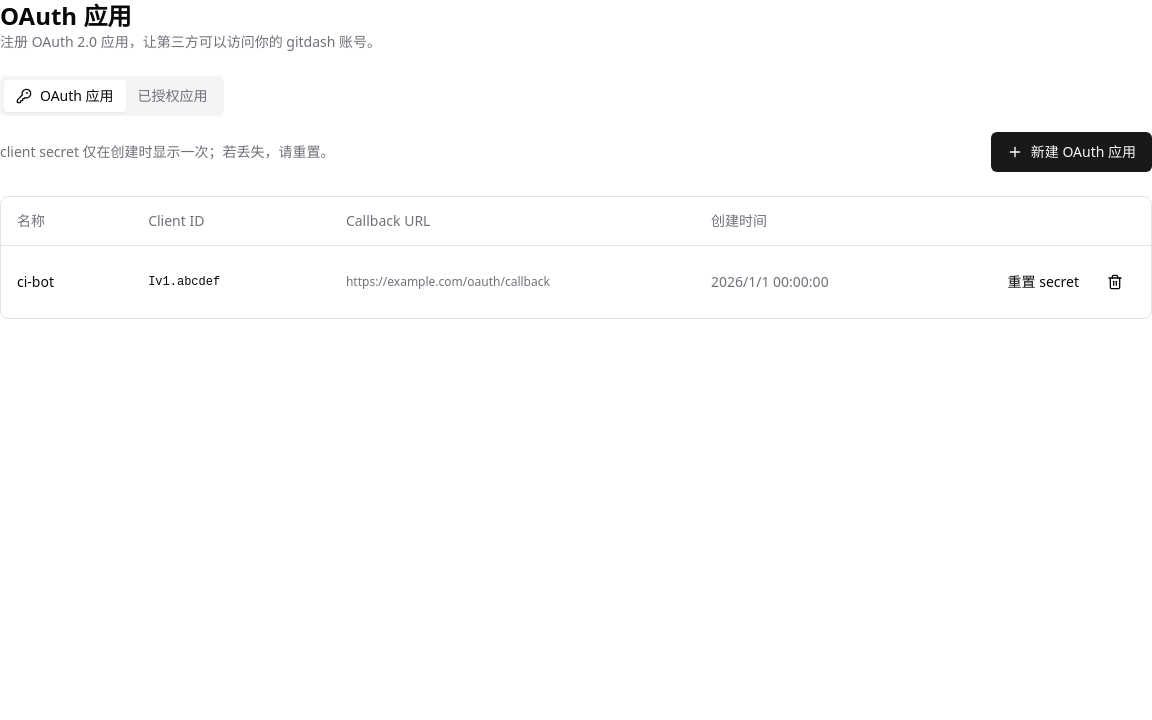
Test: OAuth applications page › renders in Chinese instead of falling back to hardcoded English
Expected: the heading "OAuth 应用" is shown, [0, 0, 131, 32]
Expected: the text "注册 OAuth 2.0 应用，让第三方可以访问你的 gitdash 账号。" is shown, [0, 32, 381, 51]
# 删除确认框里的应用名插值
Click the button named "删除" at [1115, 282], box [1095, 262, 1135, 302]
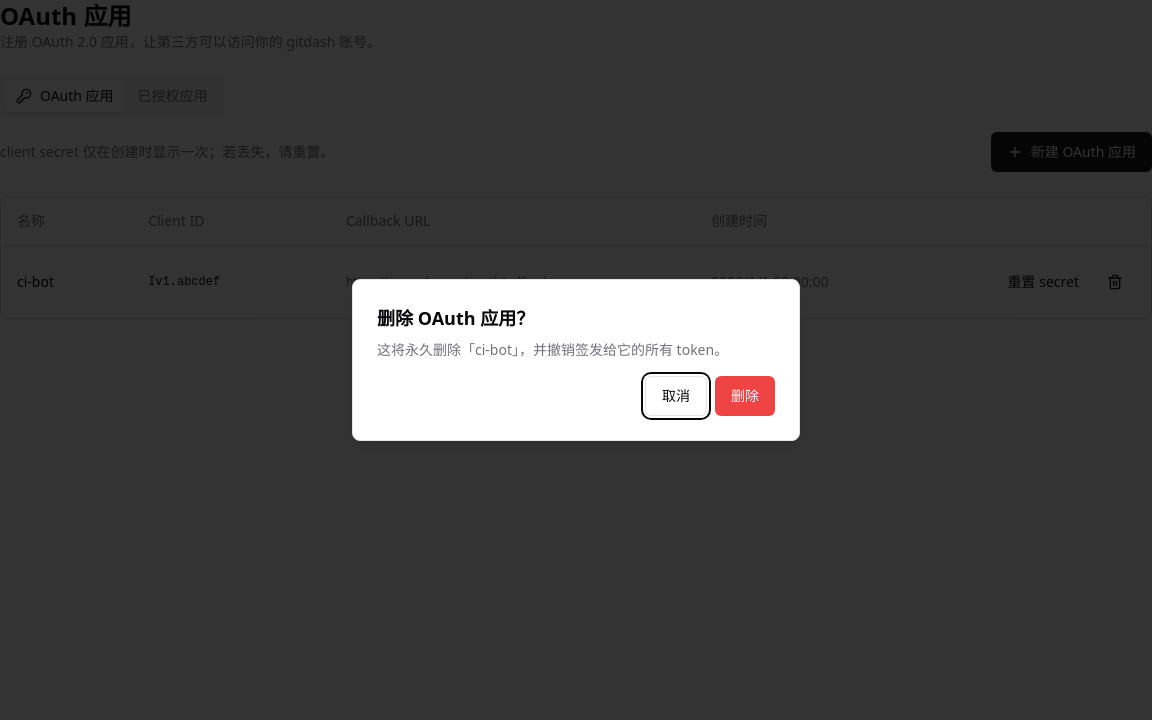
Expected: the dialog shows "删除 OAuth 应用？", [377, 306, 534, 330]
Expected: the dialog shows "ci-bot", [377, 340, 728, 359]
Click the button "取消" at [676, 396], box [645, 376, 707, 416]
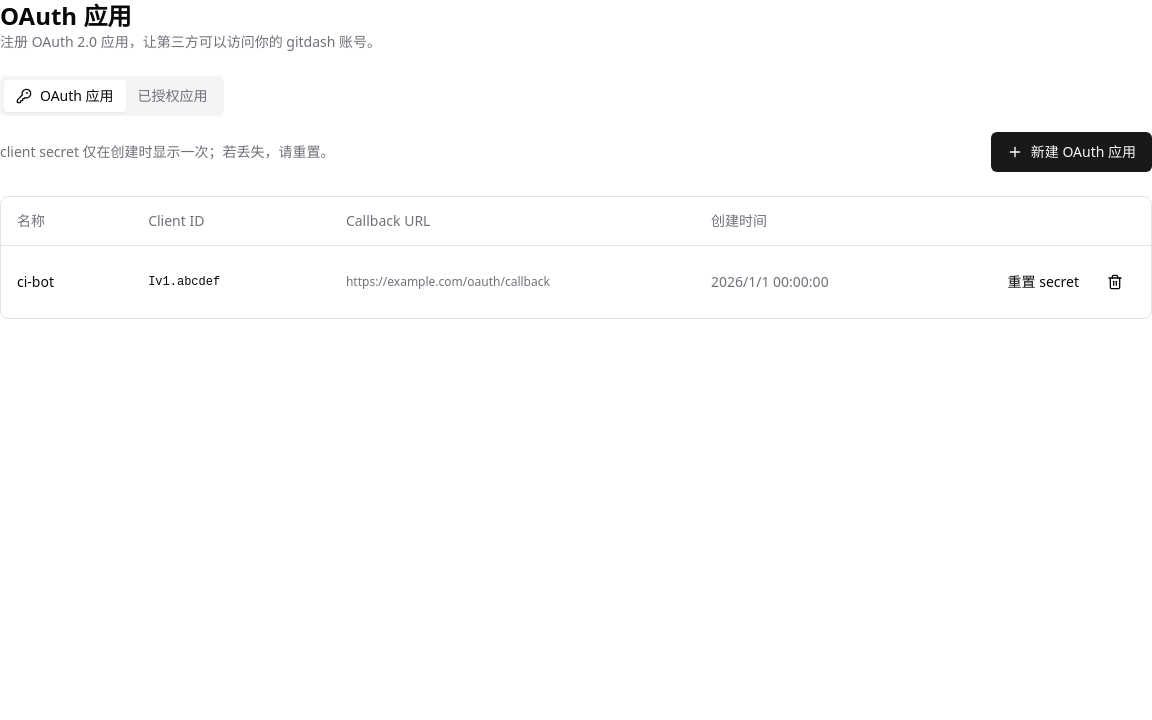
#  已授权应用页签
Click the tab "已授权应用" at [173, 96], box [126, 80, 220, 112]
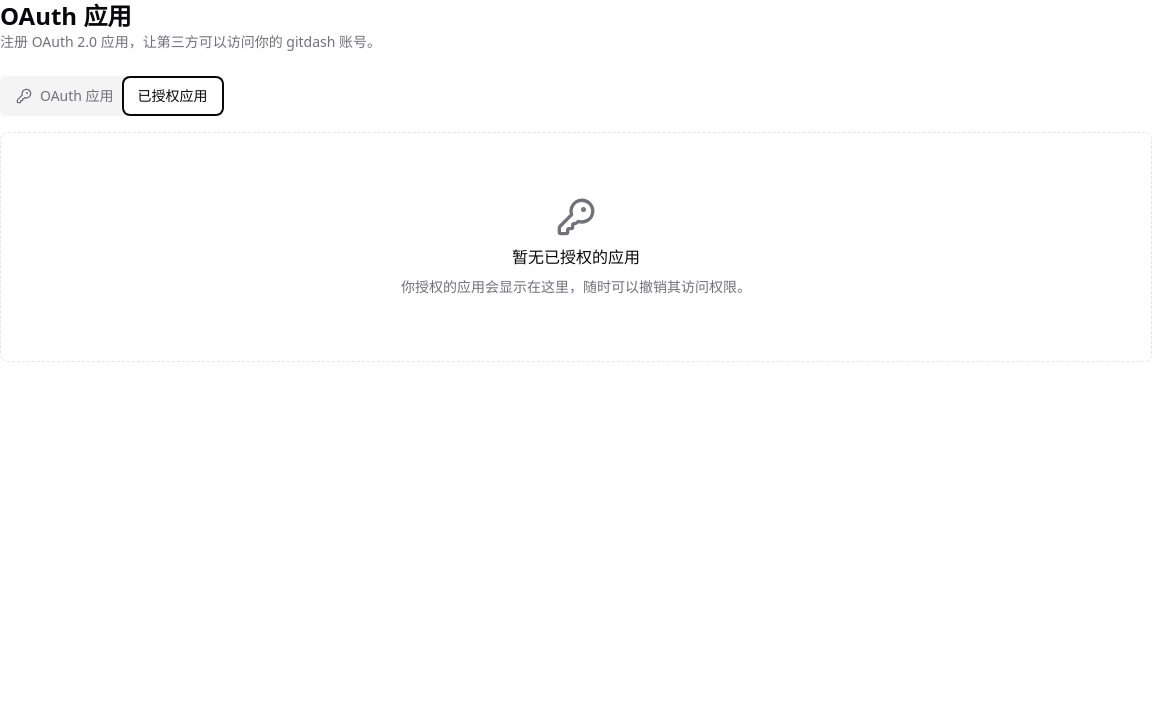
Expected: the text "暂无已授权的应用" is shown, [512, 245, 640, 269]
